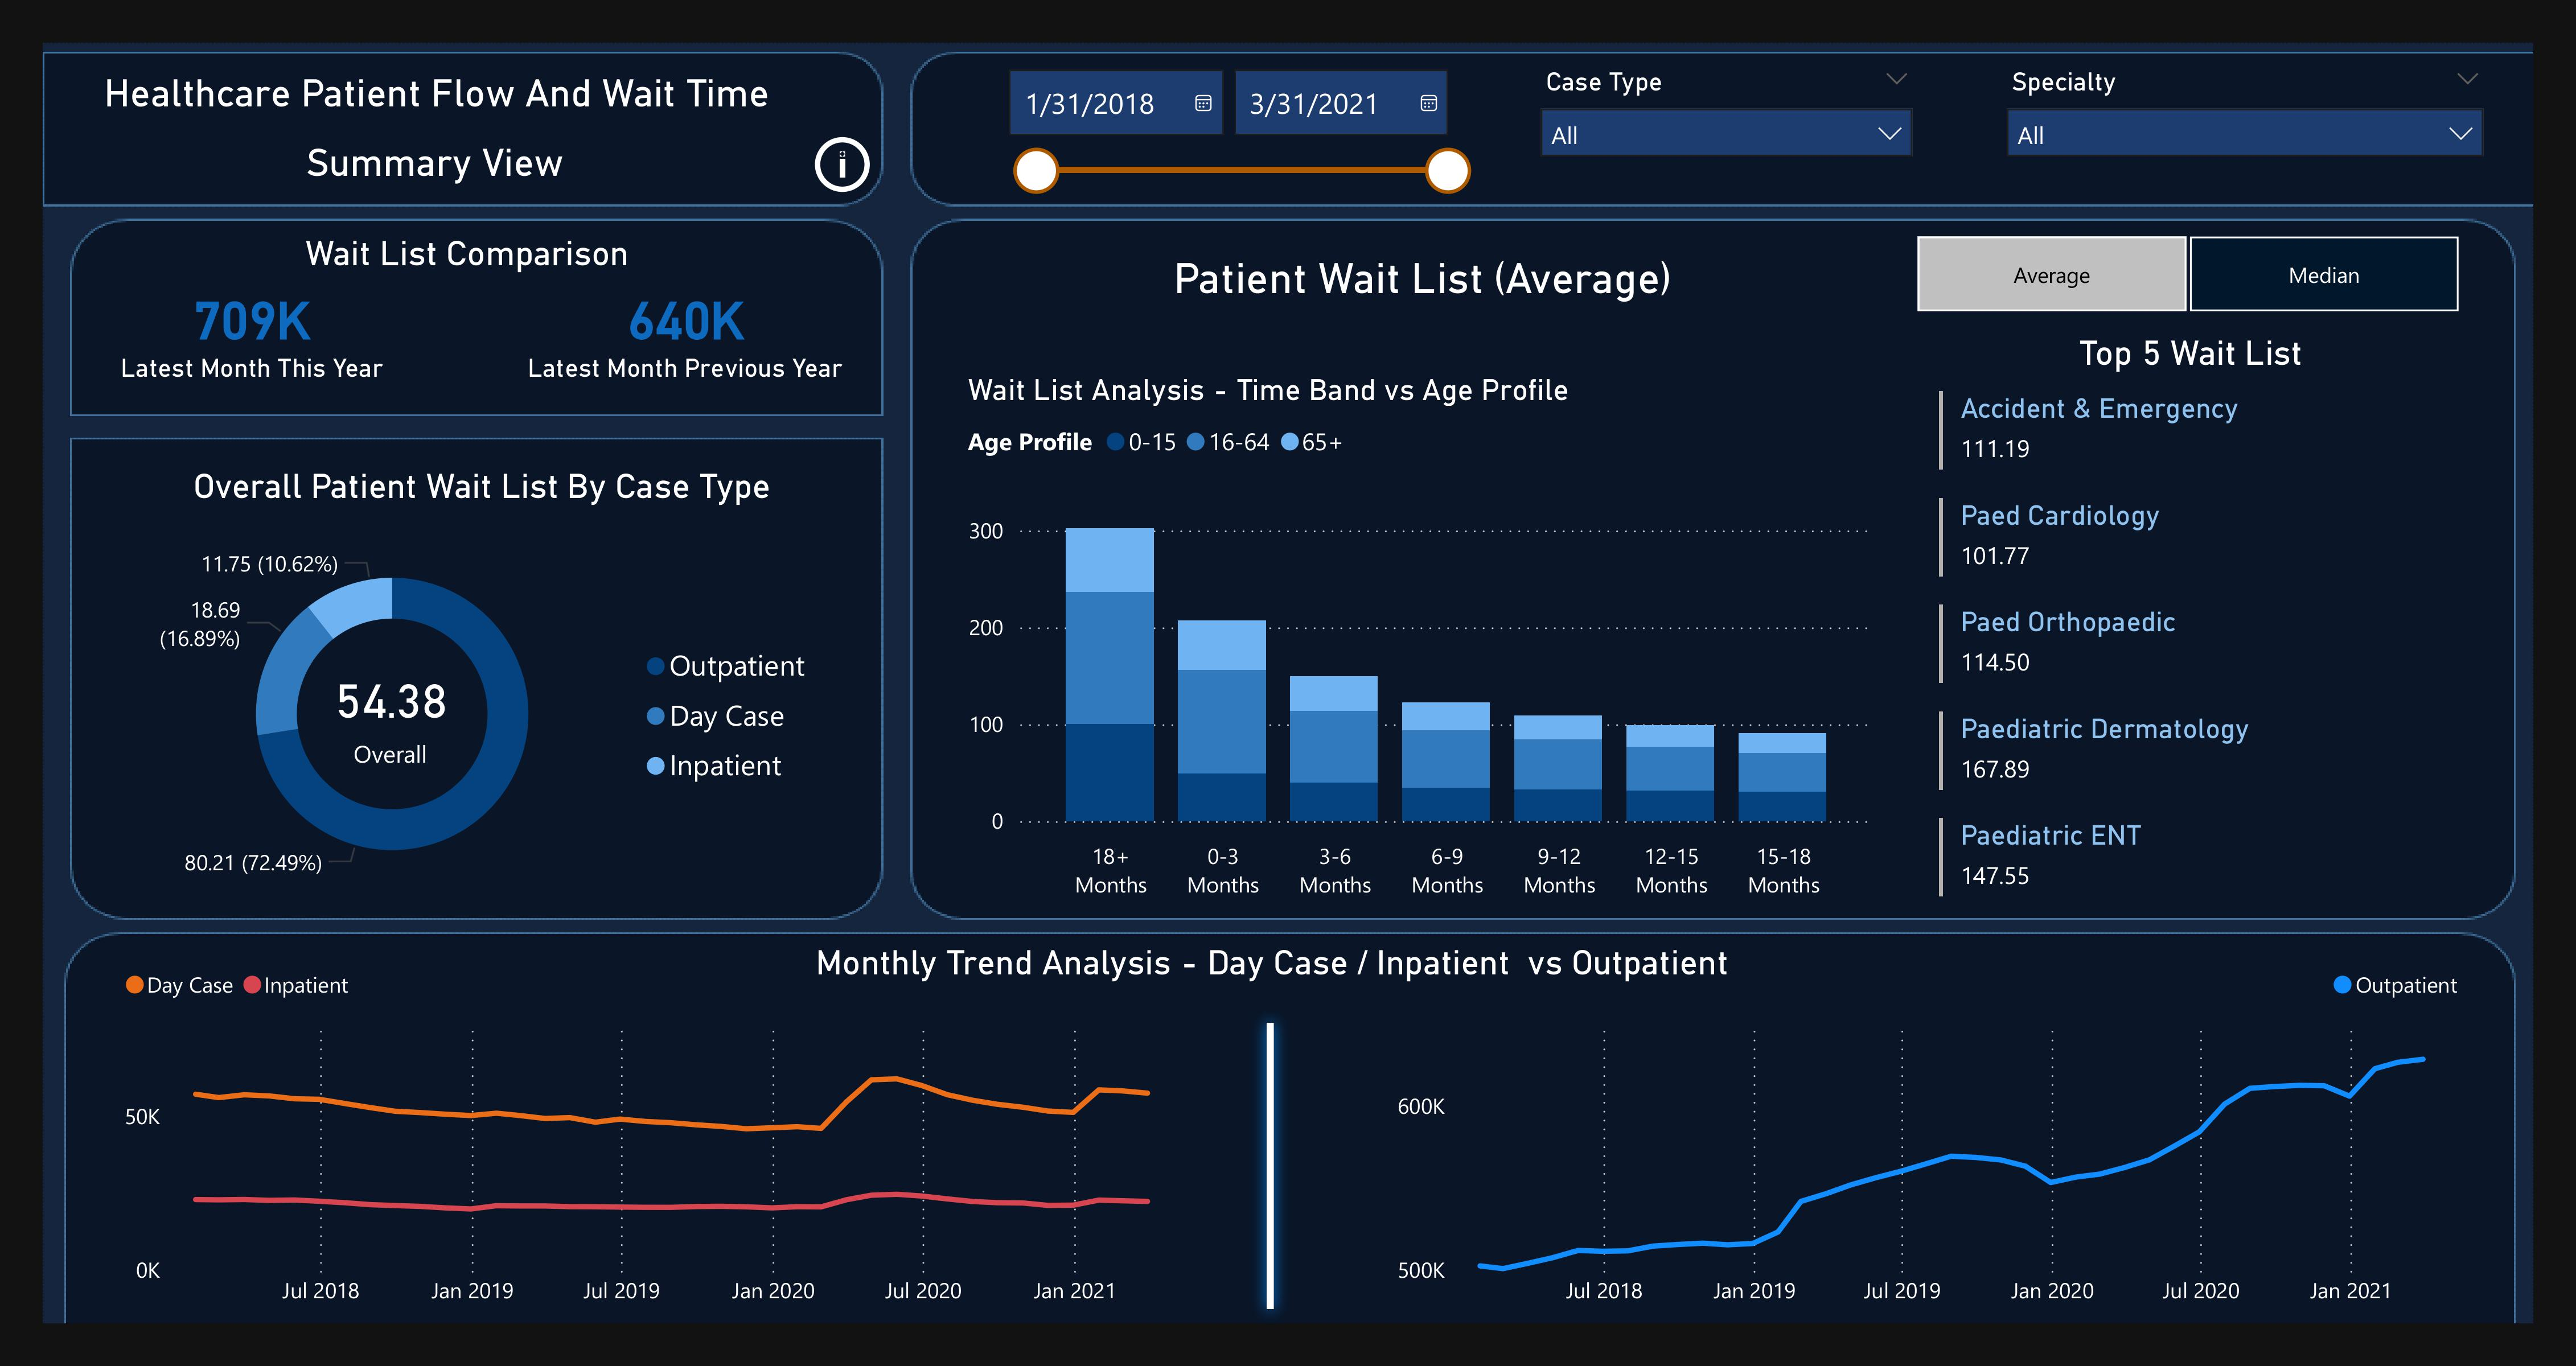

The page's visual inventory and layout, read from the dashboard file:
{"tool":"powerbi","page":{"name":"Sammary Page","canvas":[1400,720],"ordinal":0},"visuals":[{"type":"card","fields":{"Values":["calculations.Latest Month Wait List"]},"box":[49.7,128,135.5,52.7],"z":0},{"type":"slicer","fields":{"Values":["calculations.Calc Method"]},"box":[1028.2,102.4,353.8,55.7],"z":1000},{"type":"donutChart","fields":{"Category":["all_data.Case_Type"],"Y":["calculations.Avg/Med Wait List"]},"box":[49.7,266.5,392.9,222.8],"z":2000},{"type":"columnChart","title":"Wait List Analysis - Time Band vs Age Profile","fields":{"Y":["calculations.Avg/Med Wait List"],"Category":["all_data.Time_Bands"],"Series":["all_data.Age_Profile"]},"box":[514.8,185.2,519.4,304.1],"z":3000},{"type":"multiRowCard","fields":{"Values":["specialityMap.Specialty_Name","calculations.Avg/Med Wait List"]},"box":[1061.3,191.2,290.5,313.1],"z":4000},{"type":"card","fields":{"Values":["calculations.NoDataLeft"]},"box":[128,543.4,436.6,147.5],"z":4500},{"type":"card","fields":{"Values":["calculations.NoDataRight"]},"box":[815.9,543.4,436.6,147.5],"z":4750},{"type":"lineChart","title":"Day Case / Inpatient","fields":{"Category":["all_data.Archive_Date"],"Y":["Sum(all_data.Total)"],"Series":["all_data.Case_Type"]},"box":[40.6,510.3,609.7,209.2],"z":5000},{"type":"lineChart","title":"Outpatient","fields":{"Category":["all_data.Archive_Date"],"Y":["Sum(all_data.Total)"],"Series":["all_data.Case_Type"]},"box":[755.7,510.3,611.2,209.2],"z":7000},{"type":"slicer","fields":{"Values":["all_data.Archive_Date"]},"box":[529.9,4.5,281.5,81.3],"z":8000},{"type":"slicer","fields":{"Values":["all_data.Case_Type"]},"box":[832.5,9,228.8,64.7],"z":9000},{"type":"slicer","fields":{"Values":["all_data.Specialty_Name"]},"box":[1094.4,9,287.5,64.7],"z":10000},{"type":"textbox","box":[75.3,49.7,290.5,40.6],"z":11000},{"type":"card","fields":{"Values":["calculations.PY Latest Month Wait List"]},"box":[308.6,128,105.4,52.7],"z":12000},{"type":"card","fields":{"Values":["calculations.Avg/Med Wait List"]},"box":[128,340.2,135.5,75.3],"z":13000},{"type":"textbox","box":[93.3,102.4,290.5,37.6],"z":14000},{"type":"textbox","box":[16.6,169,201.7,37.6],"z":15000},{"type":"textbox","box":[239.4,169,243.9,37.6],"z":16000},{"type":"shape","box":[605.2,543.4,170.1,176.1],"z":17000},{"type":"actionButton","box":[429,48.2,126.5,40.6],"z":18000},{"type":"textbox","box":[408,501.3,566,42.2],"z":19000},{"type":"textbox","box":[1071.8,158.1,271,33.1],"z":20000},{"type":"card","fields":{"Values":["calculations.Dynamic Title"]},"box":[597.6,105.4,355.3,52.7],"z":21000},{"type":"textbox","box":[72.3,233.3,349.2,46.7],"z":22000},{"type":"textbox","box":[0,10.5,442.6,45.2],"z":23000}]}

Visuals, with their boxes on the page's 1400x720 design canvas (x1, y1, x2, y2). These are canvas units, not pixel positions in the 2576x1366 screenshot, which may show the page scaled, cropped or inside an application window:
card - calculations.Latest Month Wait List: x1=50, y1=128, x2=185, y2=181
slicer - calculations.Calc Method: x1=1028, y1=102, x2=1382, y2=158
donutChart - all_data.Case_Type x calculations.Avg/Med Wait List: x1=50, y1=266, x2=443, y2=489
"Wait List Analysis - Time Band vs Age Profile" columnChart: x1=515, y1=185, x2=1034, y2=489
multiRowCard - specialityMap.Specialty_Name x calculations.Avg/Med Wait List: x1=1061, y1=191, x2=1352, y2=504
card - calculations.NoDataLeft: x1=128, y1=543, x2=565, y2=691
card - calculations.NoDataRight: x1=816, y1=543, x2=1252, y2=691
"Day Case / Inpatient" lineChart: x1=41, y1=510, x2=650, y2=720
"Outpatient" lineChart: x1=756, y1=510, x2=1367, y2=720
slicer - all_data.Archive_Date: x1=530, y1=4, x2=811, y2=86
slicer - all_data.Case_Type: x1=832, y1=9, x2=1061, y2=74
slicer - all_data.Specialty_Name: x1=1094, y1=9, x2=1382, y2=74
textbox: x1=75, y1=50, x2=366, y2=90
card - calculations.PY Latest Month Wait List: x1=309, y1=128, x2=414, y2=181
card - calculations.Avg/Med Wait List: x1=128, y1=340, x2=264, y2=416
textbox: x1=93, y1=102, x2=384, y2=140
textbox: x1=17, y1=169, x2=218, y2=207
textbox: x1=239, y1=169, x2=483, y2=207
shape: x1=605, y1=543, x2=775, y2=720
actionButton: x1=429, y1=48, x2=556, y2=89
textbox: x1=408, y1=501, x2=974, y2=544
textbox: x1=1072, y1=158, x2=1343, y2=191
card - calculations.Dynamic Title: x1=598, y1=105, x2=953, y2=158
textbox: x1=72, y1=233, x2=422, y2=280
textbox: x1=0, y1=10, x2=443, y2=56
